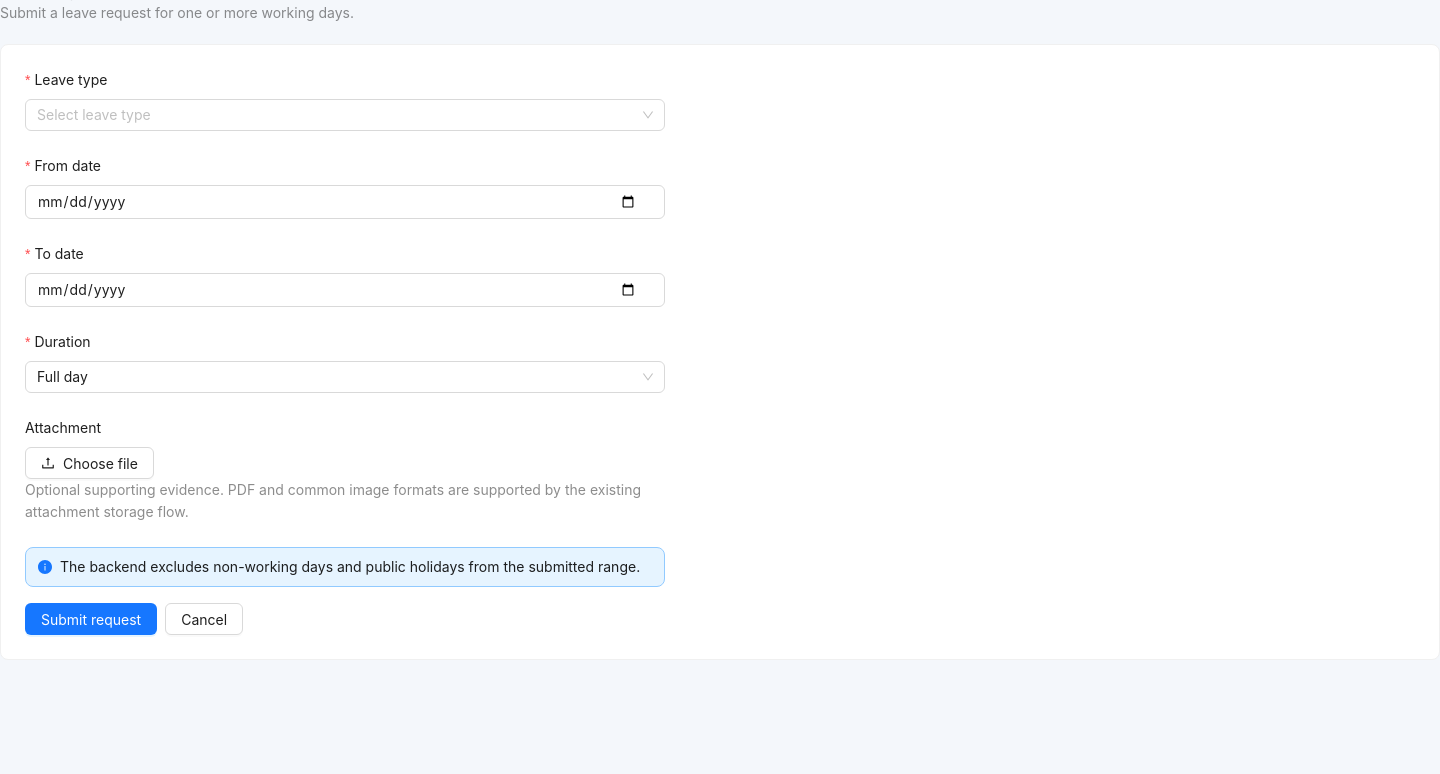
Test: ApplyLeavePage policy-aware event fields › hides qualifying-event inputs for non-event leave and shows them for event leave
Press the mouse on the dropdown labelled "Leave type" at (73, 80), box [25,69,122,91]
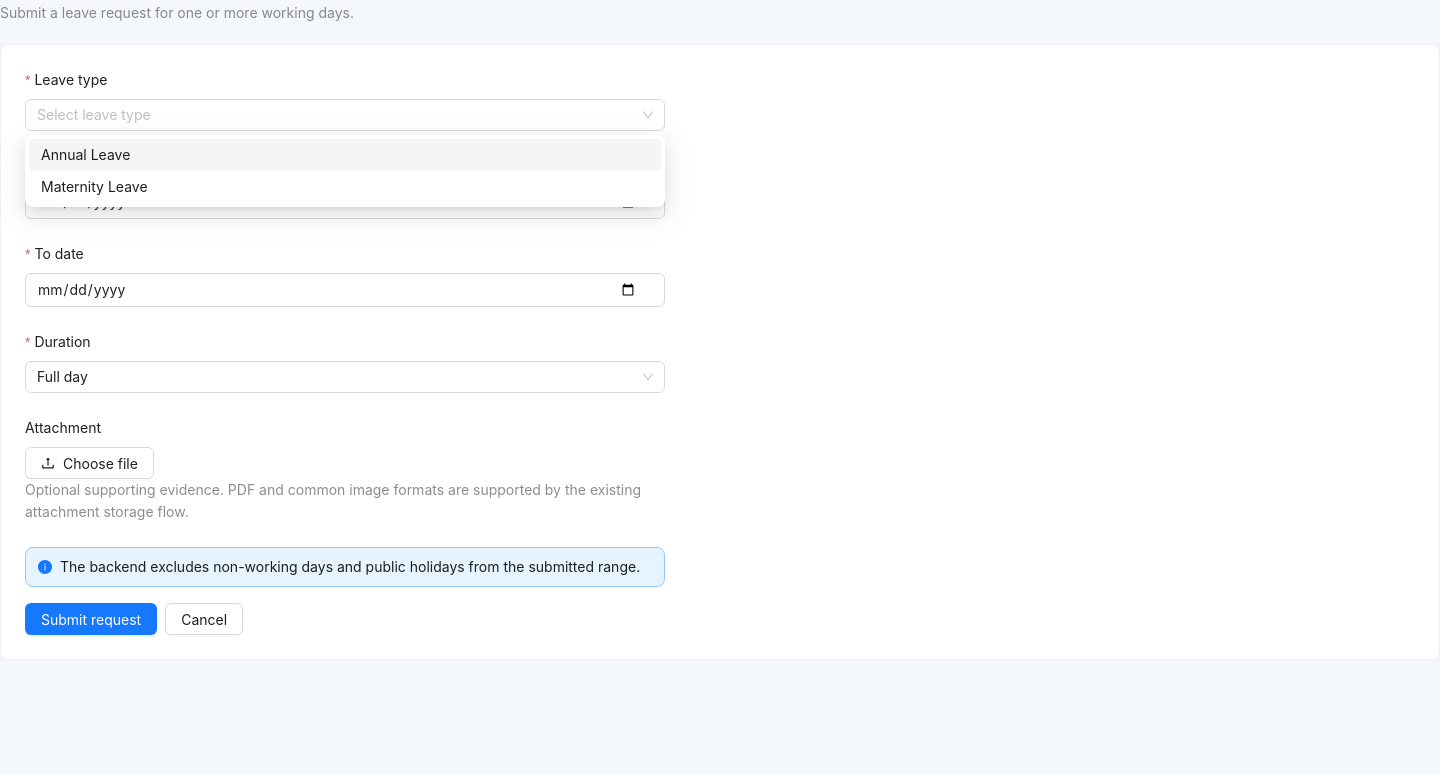
Click the text "Annual Leave".
click(86, 154)  # box [41,146,130,163]
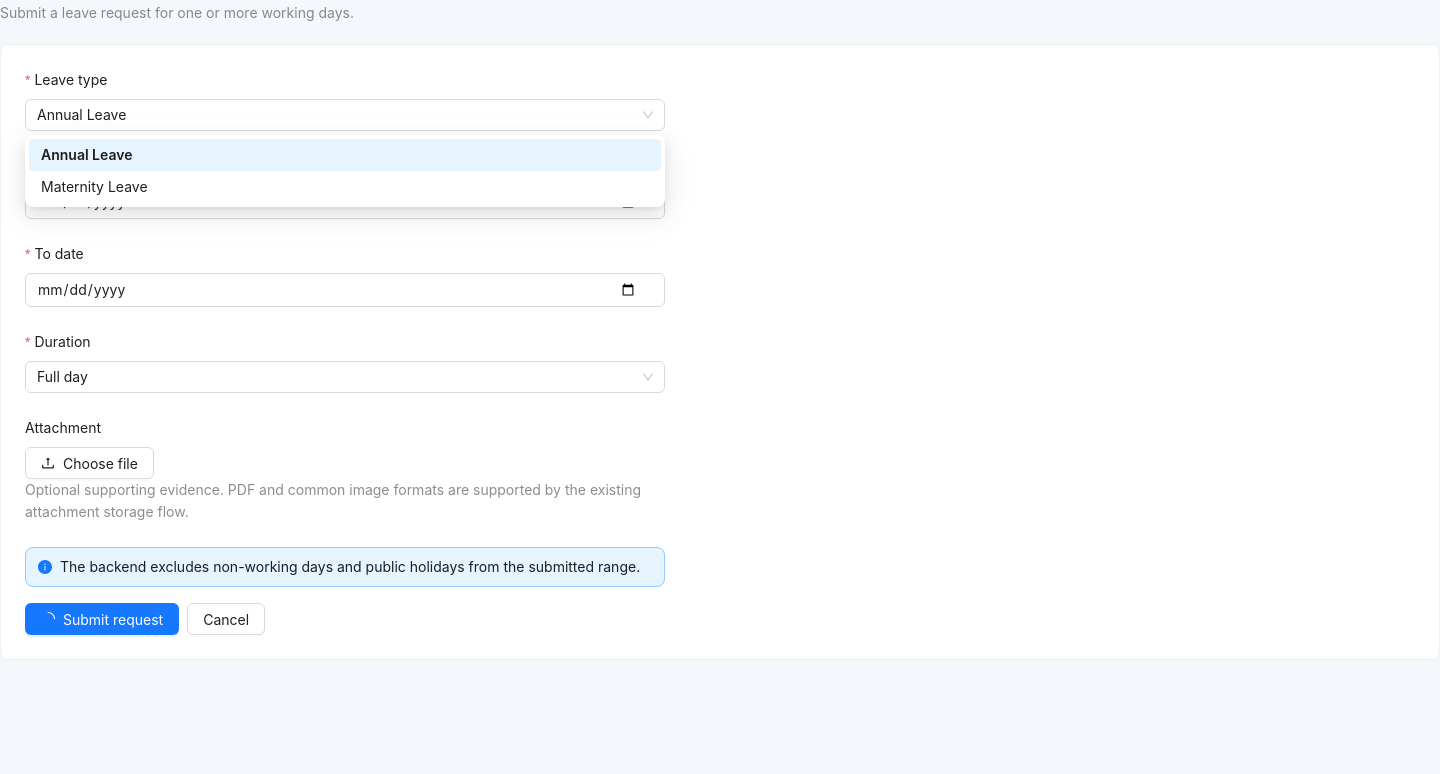
Check: the text "Qualifying event" is not shown
Check: the field labelled "Event date" is not shown
Press the mouse on the dropdown labelled "Leave type" at (73, 80), box [25,69,122,91]
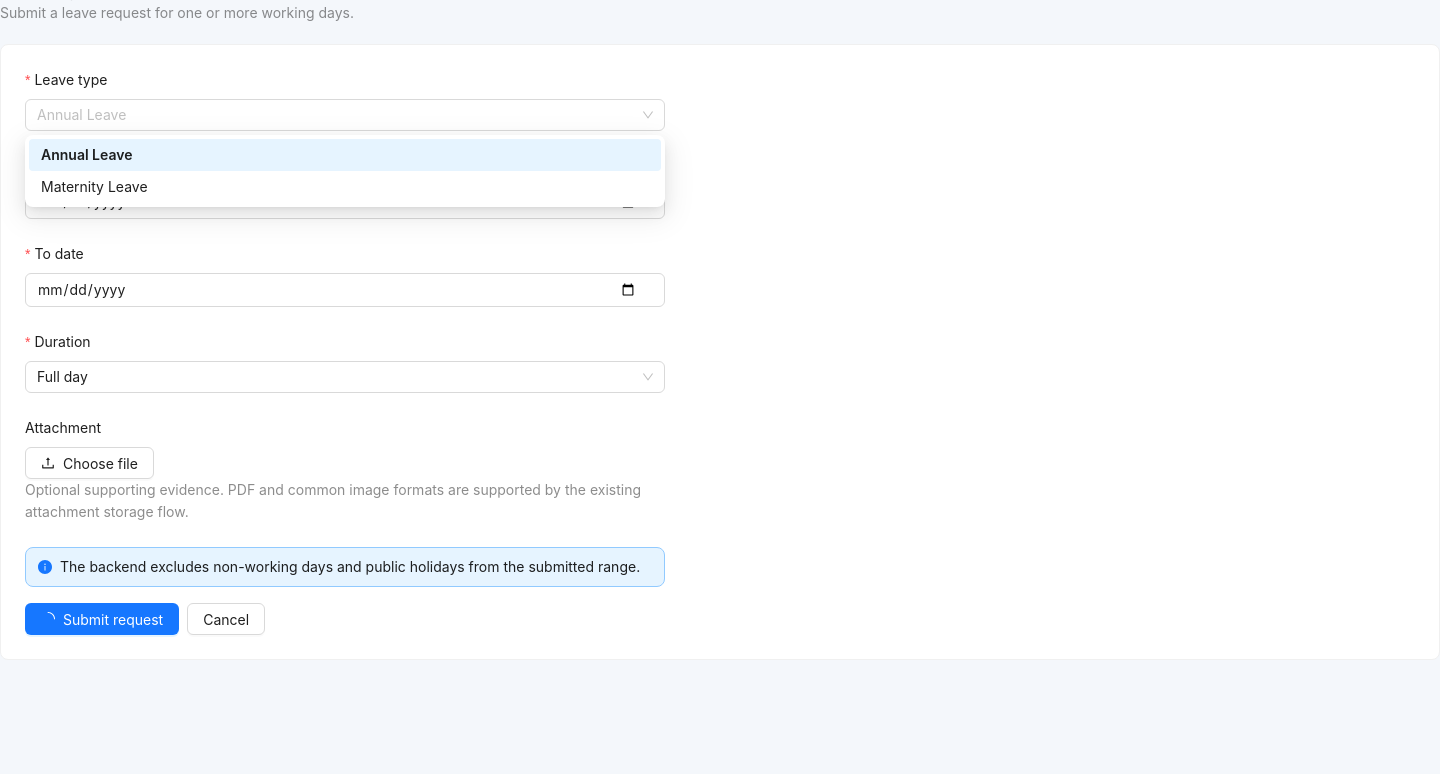
Click the text "Maternity Leave".
click(94, 186)  # box [41,178,148,195]
(page scrolled)
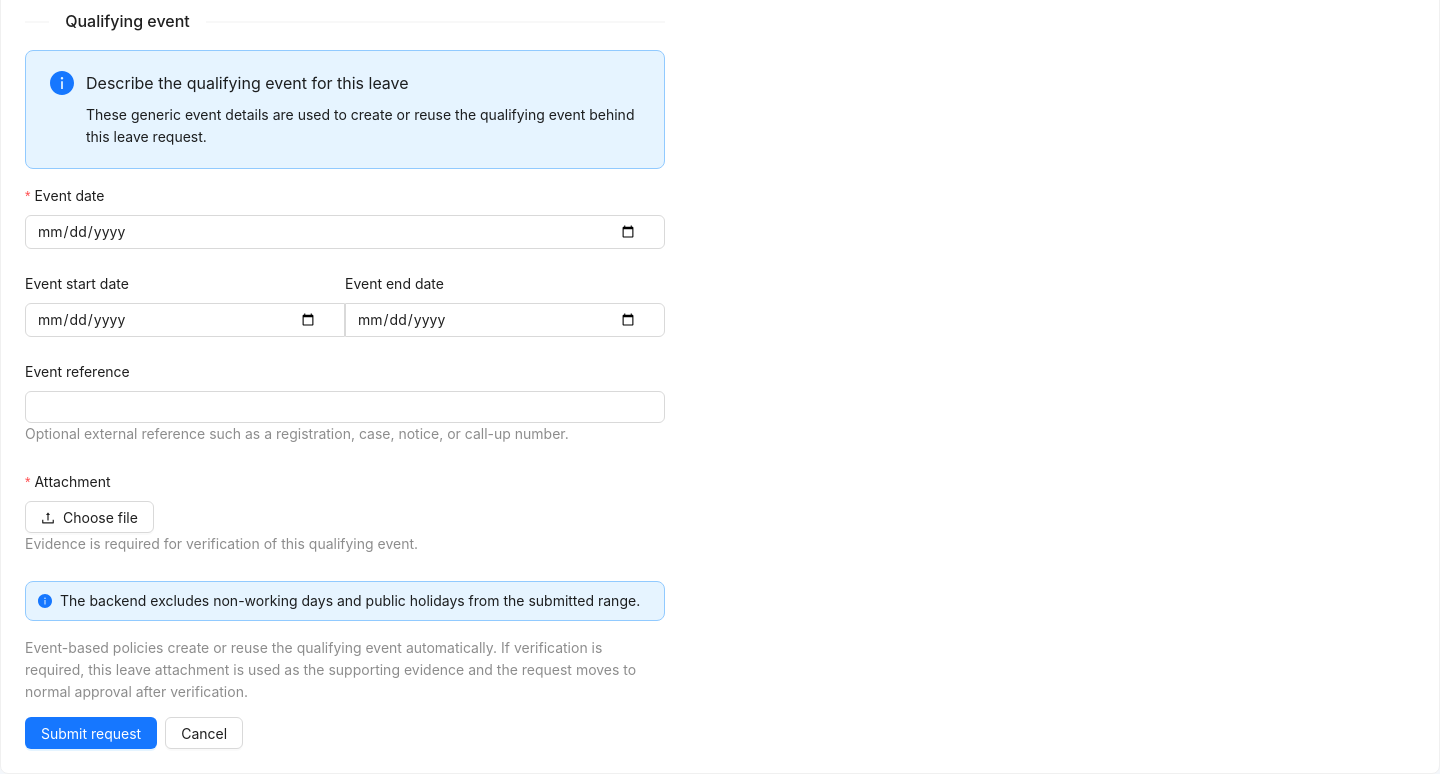
Check: the text "Qualifying event" is shown, box [65,11,190,31]
Check: the date field labelled "Event date" is shown, box [37,220,637,244]
Check: the field labelled "Event reference" is shown, box [25,391,665,423]
